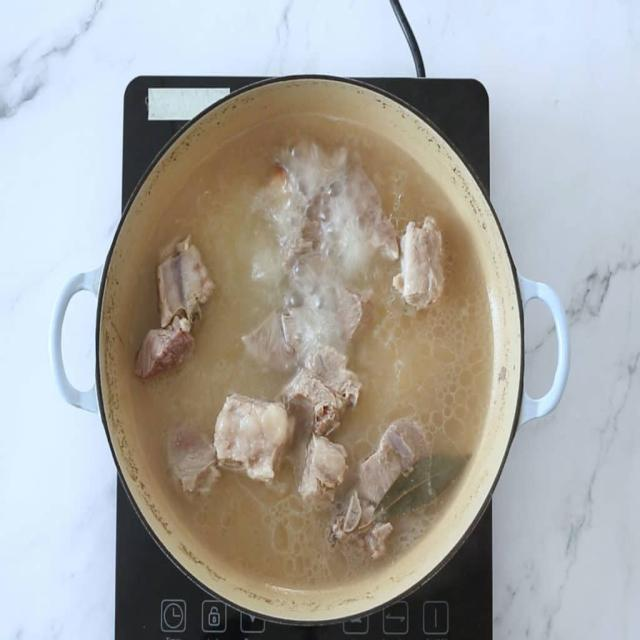carne de cerdo: (136, 240, 220, 388)
